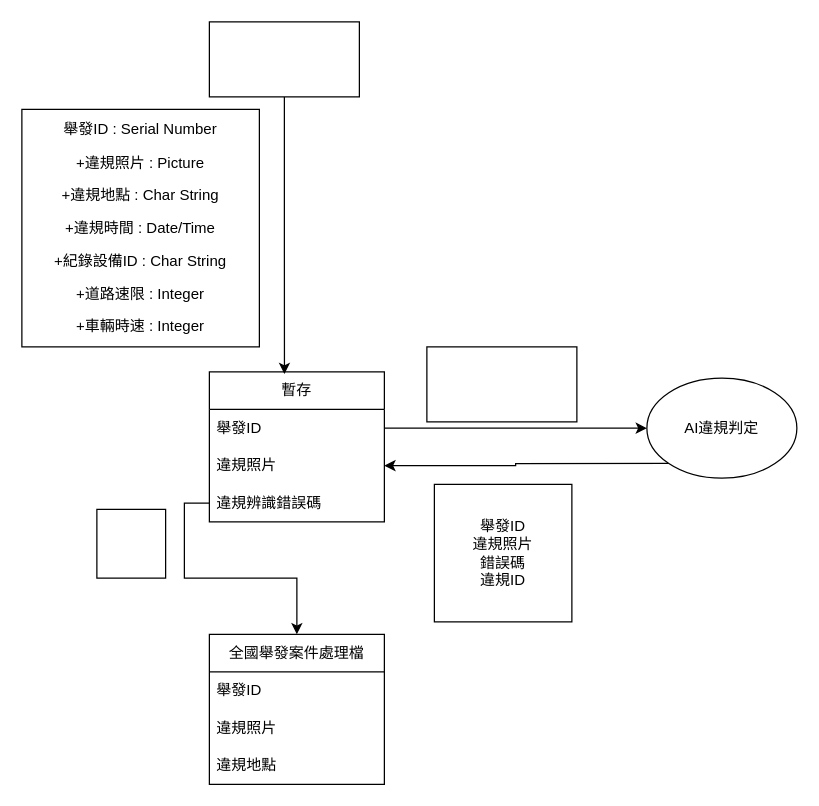
This 819x806 diagram has some shape labels left out. Each missing label, with the centre of its shape:
所有資料: (x=131, y=543)
舉發ID 違規照片: (x=501, y=384)
違規處理: (x=283, y=59)
